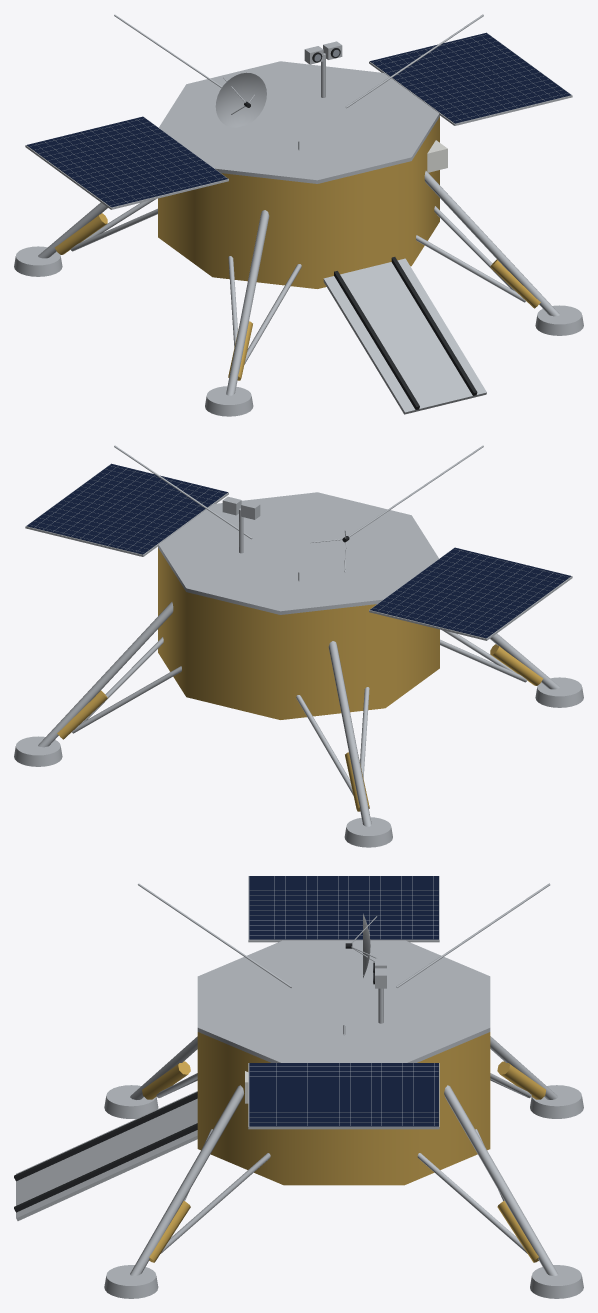
The model's file is change4_lander.glb.
3 views of the same model, one above another, from view 1: azimuth 30°, elevation 25°; view 2: azimuth 150°, elevation 25°; view 3: azimuth 270°, elevation 25° (orthographic). The views are drawn at different scales.
Visible parts, largest first — view 1: octagonal_bus, top_deck, solar_cells (×2), ramp_surface, primary_landing_strut (×3), landing_pad (×3), dish_reflector, ramp_track (×2), landing_brace (×3), solar_backing (×2), crush_cartridge (×2), LND_payload; view 2: octagonal_bus, top_deck, solar_cells (×2), primary_landing_strut (×3), landing_pad (×3), landing_brace (×3), solar_backing (×2), crush_cartridge (×2); view 3: top_deck, solar_cells (×2), octagonal_bus, ramp_surface, primary_landing_strut (×4), landing_pad (×4), crush_cartridge (×4), ramp_track (×2), landing_brace (×2), solar_backing (×2).
Part boxes in pixels (x1,y1,x2,y2): octagonal_bus: (158, 117, 439, 288); top_deck: (159, 61, 439, 183); solar_cells (×2): (26, 32, 570, 207); ramp_surface: (323, 258, 486, 414); primary_landing_strut (×3): (38, 171, 559, 395); landing_pad (×3): (14, 246, 583, 416); dish_reflector: (215, 72, 266, 127); ramp_track (×2): (334, 257, 477, 409); landing_brace (×3): (70, 208, 525, 364); solar_backing (×2): (25, 33, 572, 209); crush_cartridge (×2): (54, 213, 540, 308); LND_payload: (427, 140, 447, 172); octagonal_bus: (158, 548, 439, 719); top_deck: (158, 492, 438, 614); solar_cells (×2): (27, 463, 571, 638); primary_landing_strut (×3): (38, 602, 559, 826); landing_pad (×3): (14, 677, 583, 847); landing_brace (×3): (72, 639, 527, 795); solar_backing (×2): (25, 464, 572, 640); crush_cartridge (×2): (57, 644, 543, 739); top_deck: (197, 940, 490, 1062); solar_cells (×2): (249, 876, 438, 1126); octagonal_bus: (197, 1032, 490, 1185); ramp_surface: (16, 1091, 197, 1220); primary_landing_strut (×4): (130, 1036, 557, 1275); landing_pad (×4): (104, 1085, 583, 1298); crush_cartridge (×4): (142, 1061, 545, 1262); ramp_track (×2): (14, 1092, 197, 1212); landing_brace (×2): (160, 1153, 527, 1253); solar_backing (×2): (248, 876, 439, 1129).
Bounding box in the file's own units: 4.5 × 2.22 × 4.32.
Materials: 6 (6 with a texture image).
